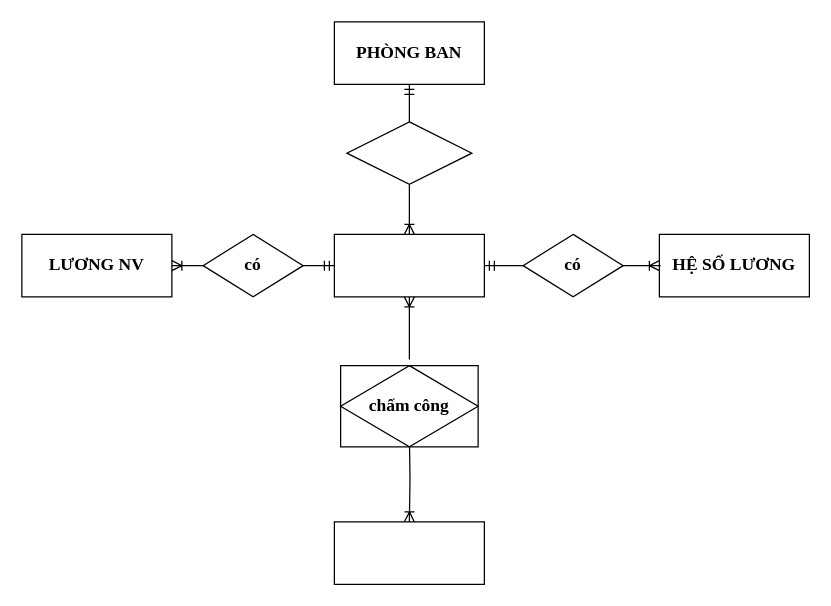
Some shapes in this 831 by 606 pixel diagram are drawn without their labels. The centre of each missing label's shape, as x and y in pixels:
CA LÀM: point 408,552
NHÂN VIÊN: point 408,265
thuộc: point 409,152
